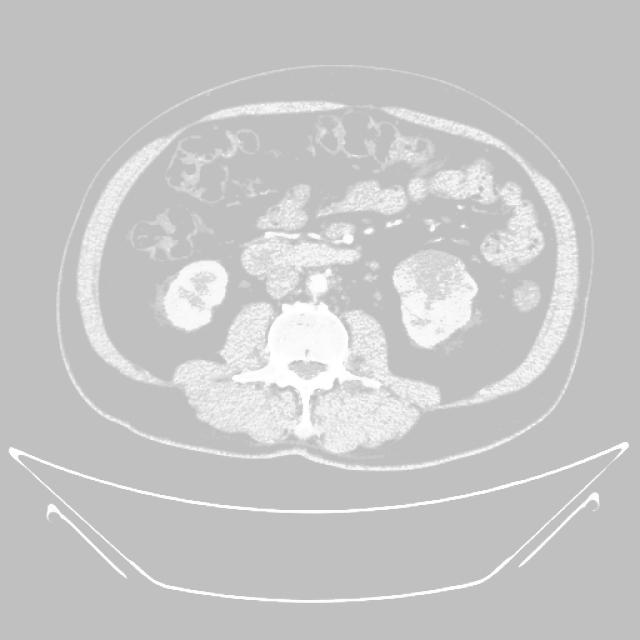TUMOR: (241, 158, 567, 331)
